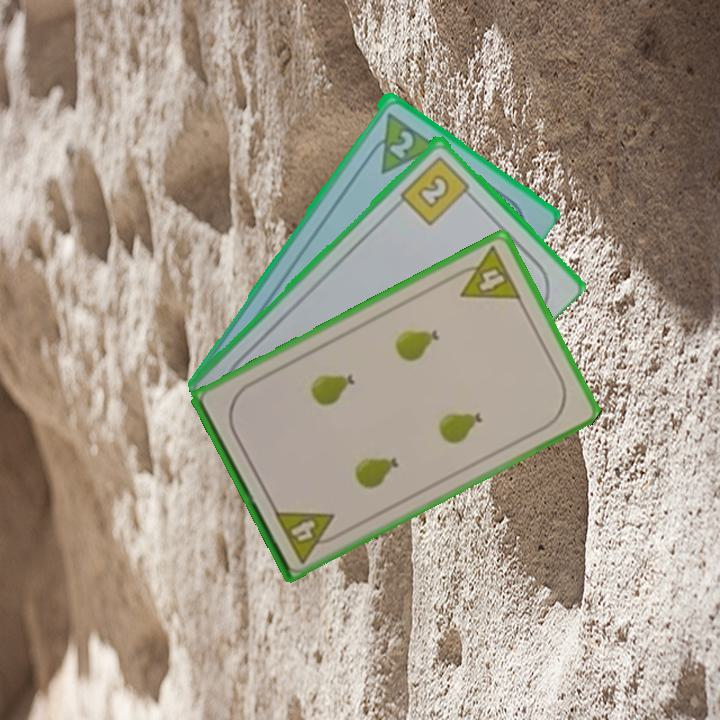2b: (396, 152, 477, 228)
2p: (361, 108, 438, 176)
4p: (447, 243, 524, 303), (270, 506, 345, 566)
